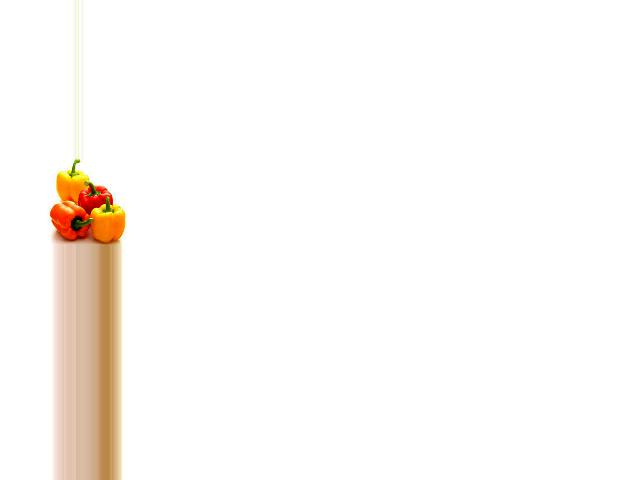bell_pepper: (80, 197, 126, 243)
